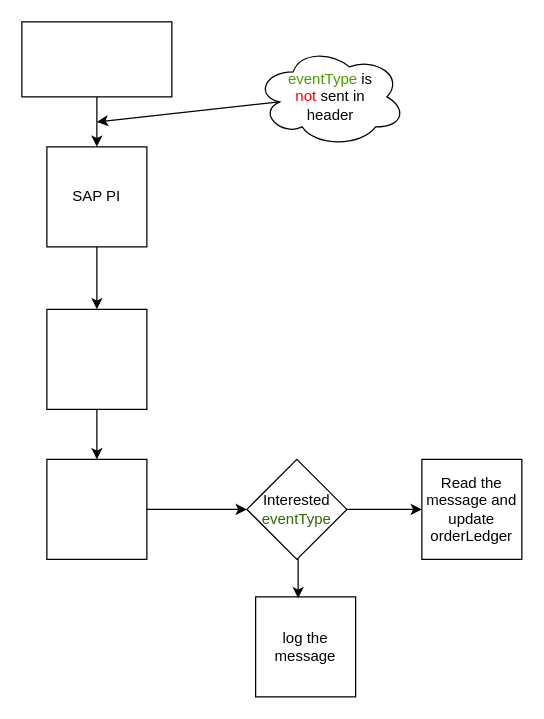
Image size: 544x719. Some labels were removed from this diagram. The shapes that lost their labels are listed below. From the top down, each one's centre as x and y in pixels, then its label:
At [96,59]: "OMS Order Update Event".
At [96,358]: "LeanPOS order-fulfillment-service".
At [96,508]: "LP ms-quote-service".
